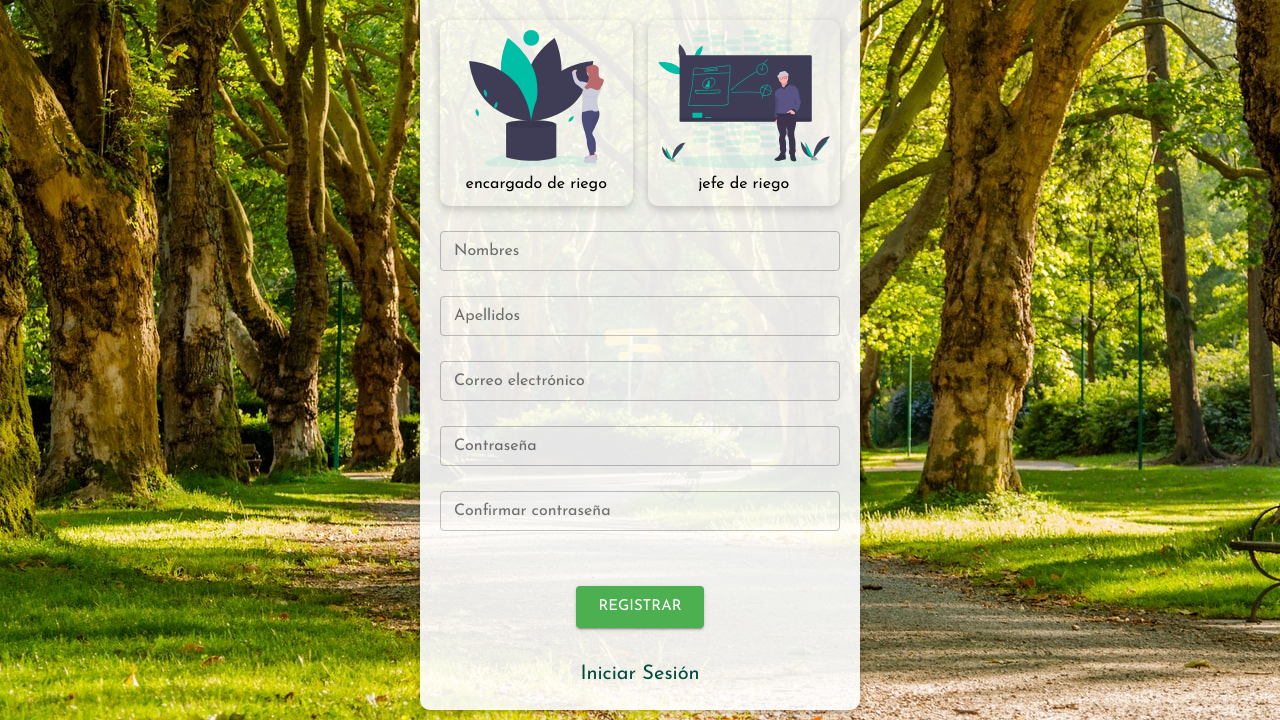
Test: As an user I want to register in the application to enter the plattforms › should show error messages when a form field is missing
The width and height of the screenshot is (1280, 720).
(page scrolled)
What coordinates should you click on to do the following:
click the button "Registrar"
I would click on:
 (640, 607)
Its box is [576,586,703,628].
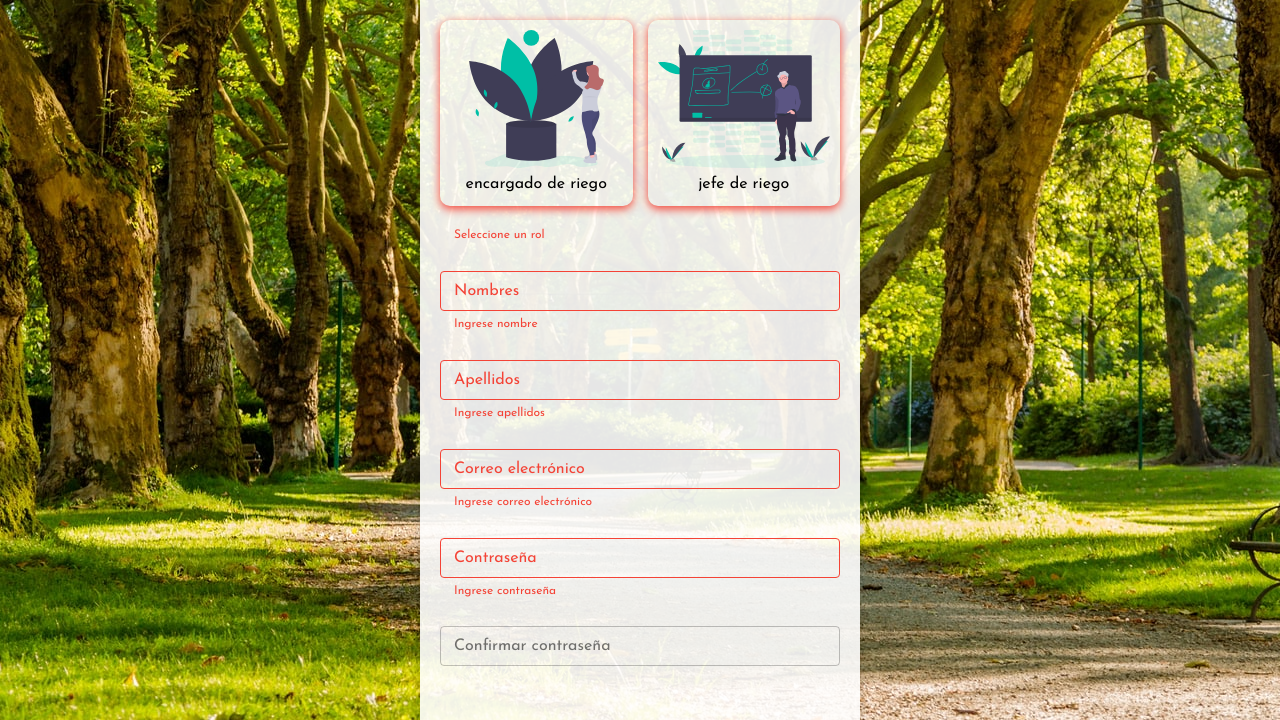
Result: the text with id "sign-up-role-helper-text" reads "Seleccione un rol" at [454,229,545,241]
Result: the text with id "sign-up-name-helper-text" reads "Ingrese nombre" at [454,318,538,330]
Result: the text with id "sign-up-lastname-helper-text" reads "Ingrese apellidos" at [454,407,545,419]
